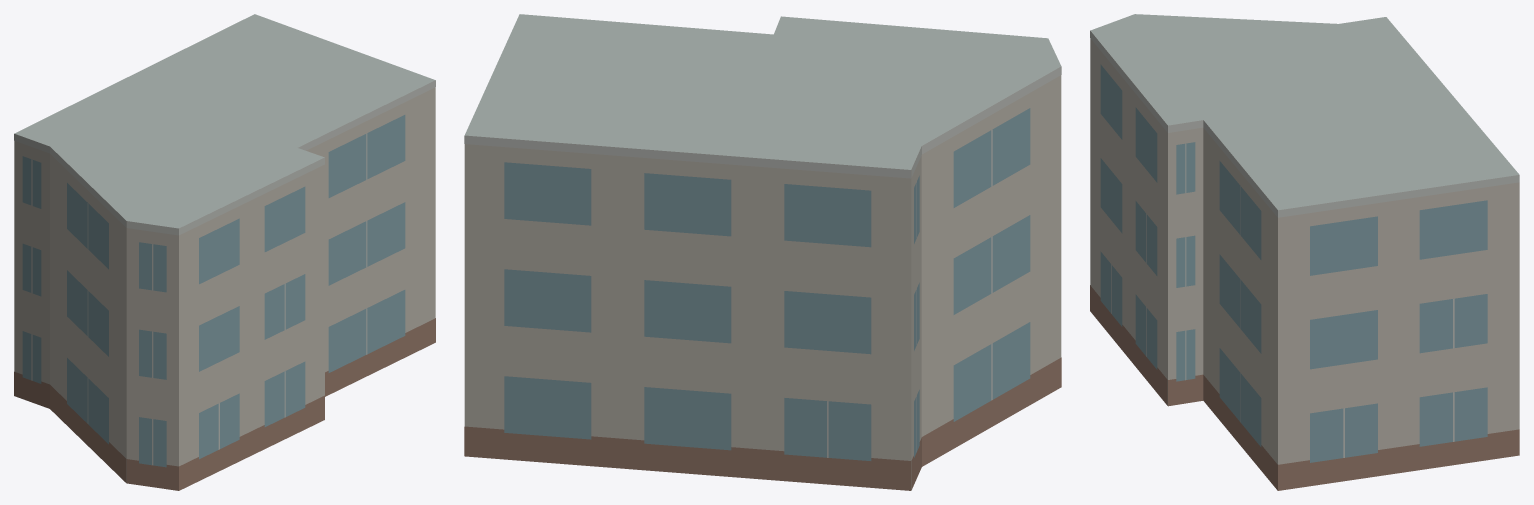
File: survey-upis-32473522.glb
The picture shows the model from 3 angles, left to right: view 1: azimuth 30°, elevation 25°; view 2: azimuth 150°, elevation 25°; view 3: azimuth 270°, elevation 25°; orthographic projection. The views are drawn at different scales.
Visible parts, largest first — view 1: survey-upis-32473522.tmp; view 2: survey-upis-32473522.tmp; view 3: survey-upis-32473522.tmp.
Part boxes in pixels (x1,y1,x2,y2): survey-upis-32473522.tmp: (14, 14, 435, 490); survey-upis-32473522.tmp: (464, 14, 1061, 490); survey-upis-32473522.tmp: (1090, 14, 1519, 490).
Bounding box in the file's own units: 13.74 × 9.15 × 12.7.
